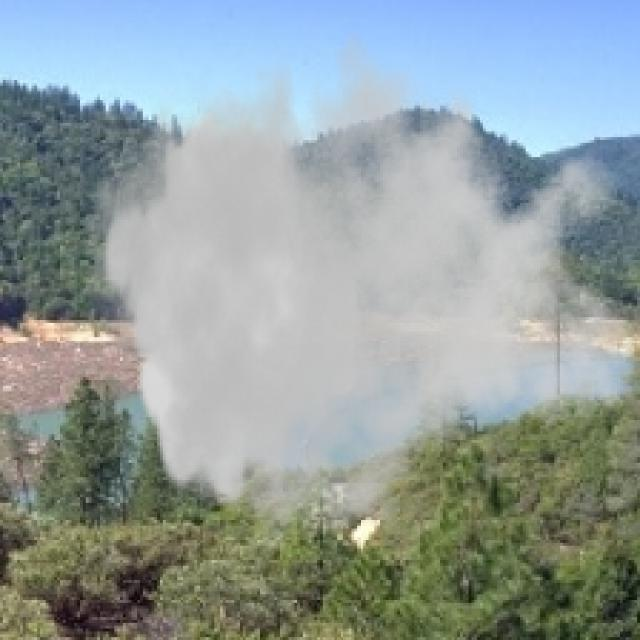smoke: (83, 3, 637, 563)
